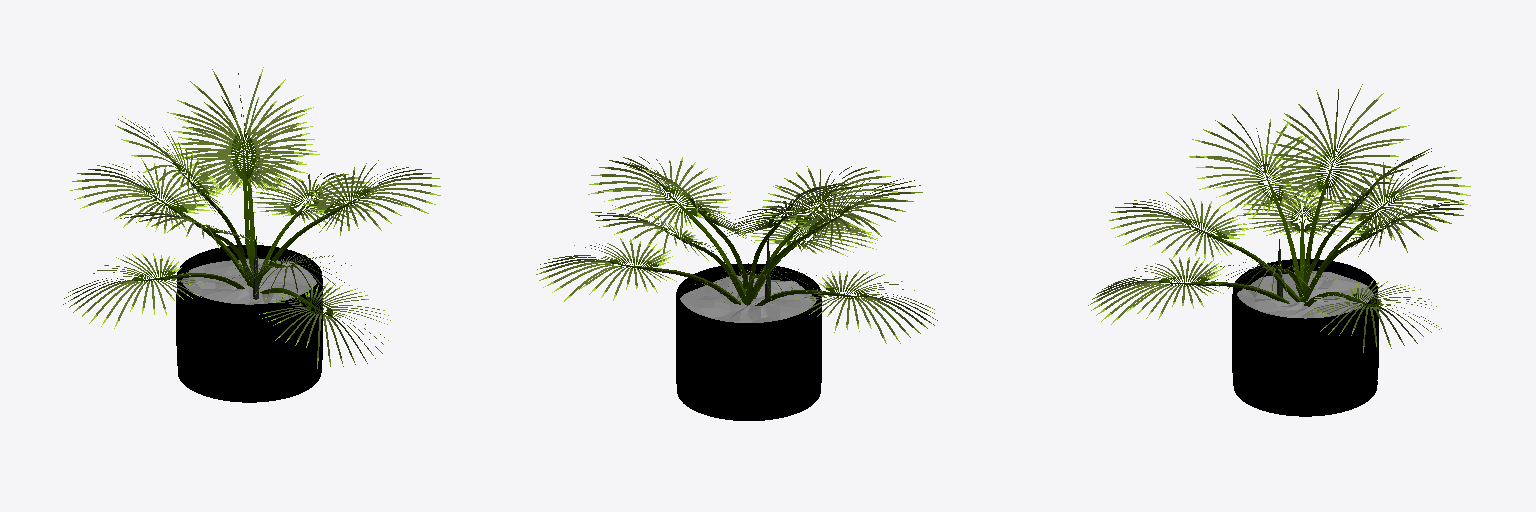
Rendered from plant.obj.
3 views of the same model, side by side, from view 1: azimuth 30°, elevation 25°; view 2: azimuth 150°, elevation 25°; view 3: azimuth 270°, elevation 25° (orthographic).
Parts seen in each view (by area): view 1: Cylinder01, PLMB_MLEAF, Cylinder02, PLMB_BRANC, PLMB_ELEAF, PLMB_BLEAF; view 2: Cylinder01, PLMB_MLEAF, Cylinder02, PLMB_BRANC, PLMB_ELEAF, PLMB_BLEAF; view 3: Cylinder01, PLMB_MLEAF, PLMB_BRANC, Cylinder02, PLMB_BLEAF, PLMB_ELEAF.
Boxes of the visible parts, x1,y1,x2,y2 form: Cylinder01: [176, 245, 322, 402]; PLMB_MLEAF: [74, 73, 431, 357]; Cylinder02: [181, 258, 316, 304]; PLMB_BRANC: [143, 142, 359, 313]; PLMB_ELEAF: [63, 67, 440, 368]; PLMB_BLEAF: [132, 131, 369, 315]; Cylinder01: [676, 263, 821, 420]; PLMB_MLEAF: [546, 157, 927, 337]; Cylinder02: [680, 274, 816, 322]; PLMB_BRANC: [620, 194, 857, 305]; PLMB_ELEAF: [536, 156, 937, 343]; PLMB_BLEAF: [608, 184, 868, 298]; Cylinder01: [1232, 259, 1378, 416]; PLMB_MLEAF: [1098, 92, 1459, 345]; PLMB_BRANC: [1170, 158, 1389, 306]; Cylinder02: [1237, 271, 1373, 318]; PLMB_BLEAF: [1158, 145, 1399, 306]; PLMB_ELEAF: [1088, 84, 1470, 352].
Size of the model in its own units: 169 by 118 by 162.